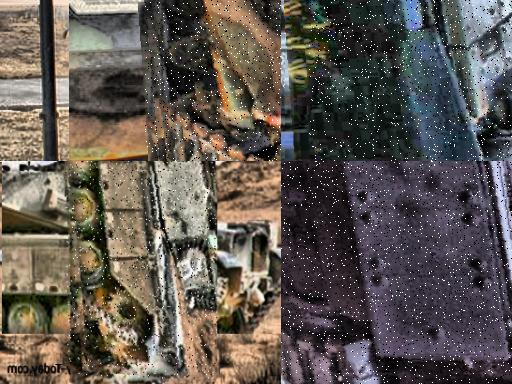tanks: (282, 162, 512, 384), (67, 162, 218, 379), (312, 1, 512, 162), (146, 1, 282, 162), (162, 162, 165, 164)
